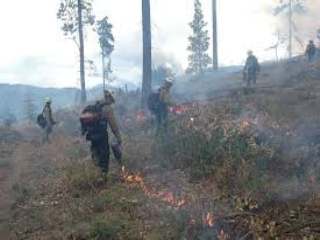fire: (125, 170, 192, 210)
smoke: (156, 32, 188, 78)
